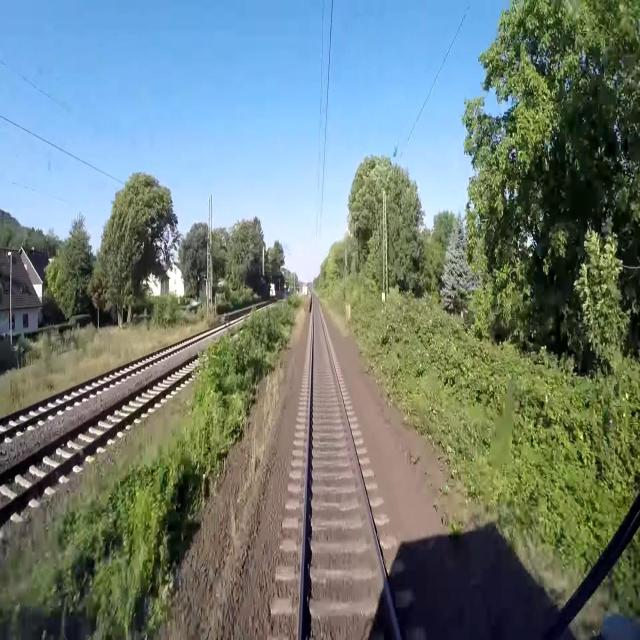rail-track: (302, 296, 396, 639), (0, 356, 199, 503), (0, 340, 189, 430)
